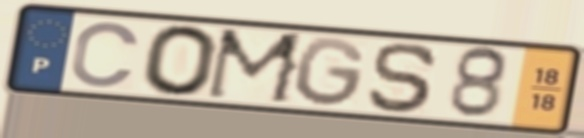8: (444, 45, 513, 123)
C: (67, 19, 144, 91)
G: (293, 35, 370, 110)
M: (201, 26, 310, 107)
O: (139, 22, 222, 99)
S: (364, 40, 442, 116)
